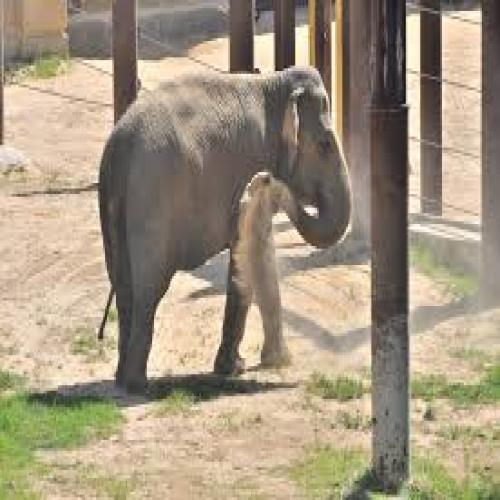asian_elephant-endangered: (100, 64, 354, 396)
